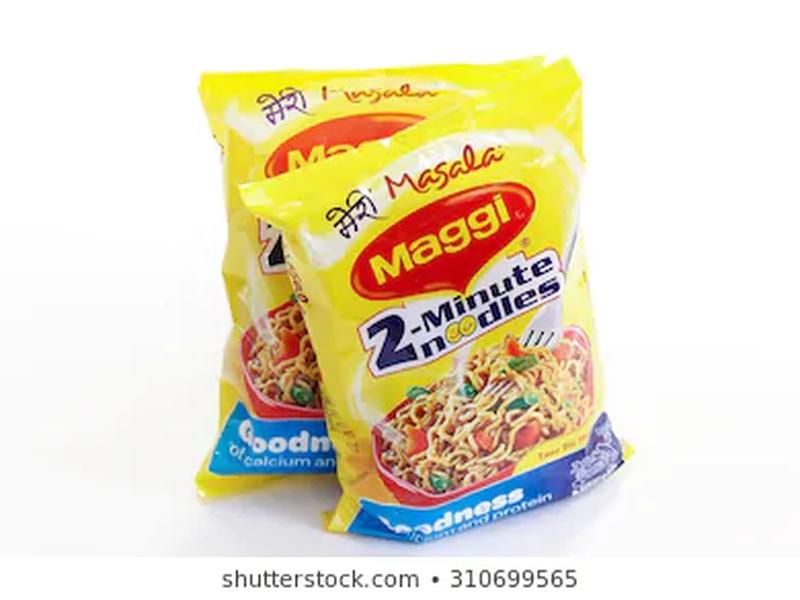maggi-small: (317, 117, 624, 526)
